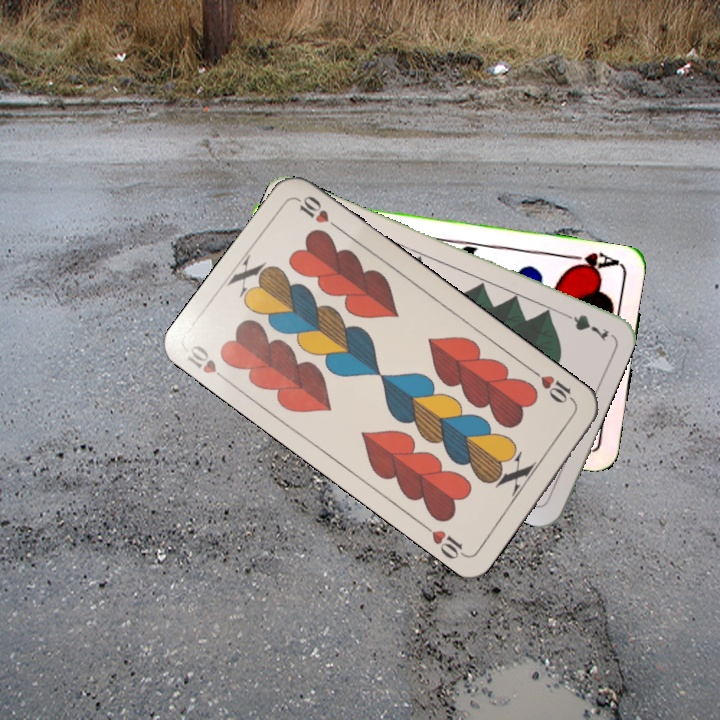G7: (556, 307, 612, 344)
H10: (182, 341, 233, 387), (529, 366, 580, 408)
HA: (563, 248, 623, 276)
